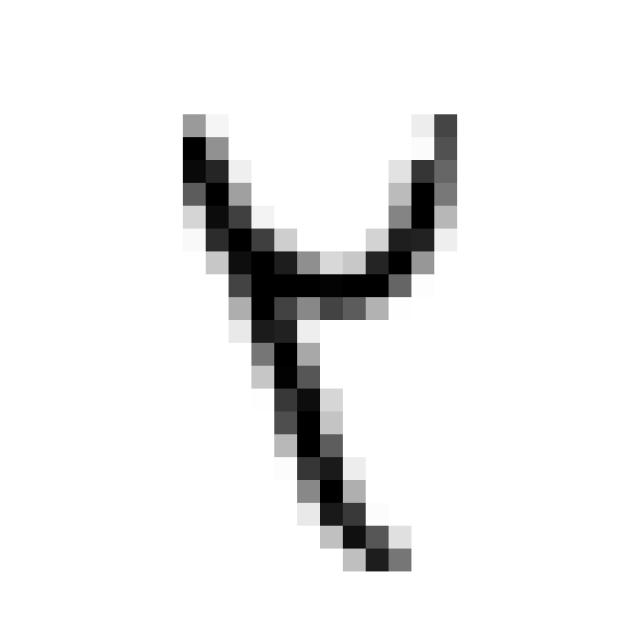3 -three-: (150, 84, 480, 588)
